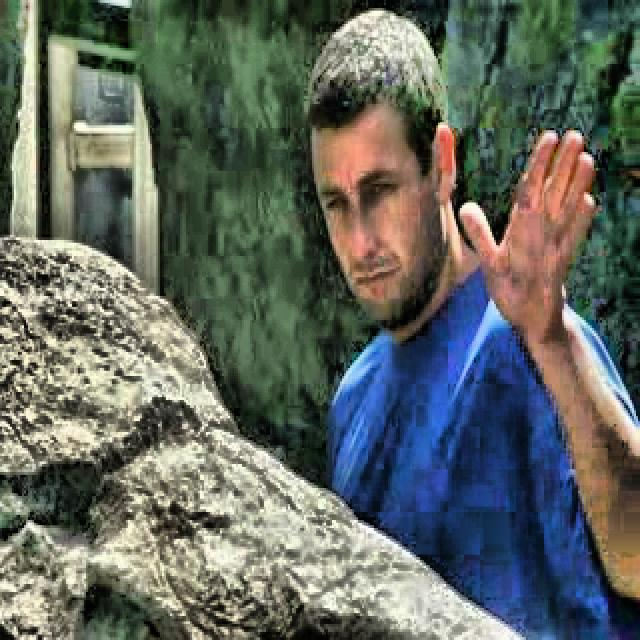L: (298, 1, 640, 640)
